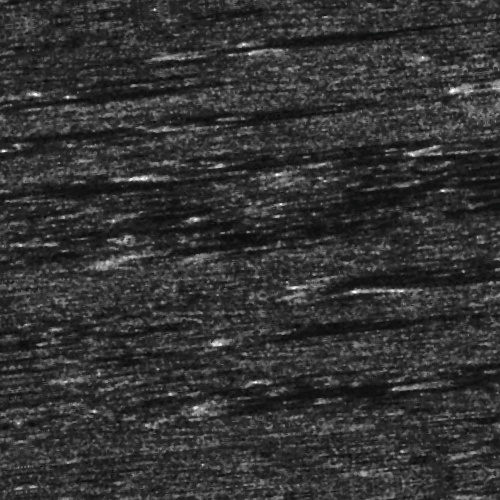object: (295, 290, 440, 315), (164, 108, 247, 125), (104, 235, 197, 246), (121, 159, 214, 168), (418, 164, 491, 175), (0, 104, 46, 121), (164, 42, 269, 49), (212, 332, 275, 341), (33, 63, 106, 70), (255, 47, 318, 54), (445, 108, 500, 115), (0, 168, 47, 175), (472, 288, 500, 299), (478, 439, 500, 450), (467, 280, 500, 287), (0, 75, 19, 82)
shadow: (368, 290, 500, 315), (205, 108, 388, 125), (151, 235, 388, 246), (167, 159, 407, 168), (0, 104, 114, 121), (217, 42, 461, 49), (244, 332, 426, 341), (0, 75, 204, 82), (69, 63, 245, 70), (21, 168, 191, 175), (0, 212, 123, 221), (287, 47, 413, 54), (454, 164, 500, 175), (0, 166, 34, 177), (0, 313, 27, 324), (400, 401, 466, 402)
